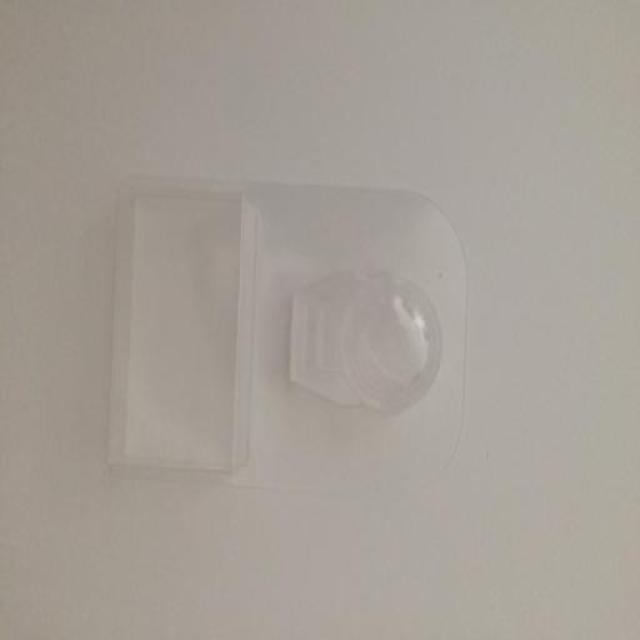Plastic: (108, 173, 468, 488)
